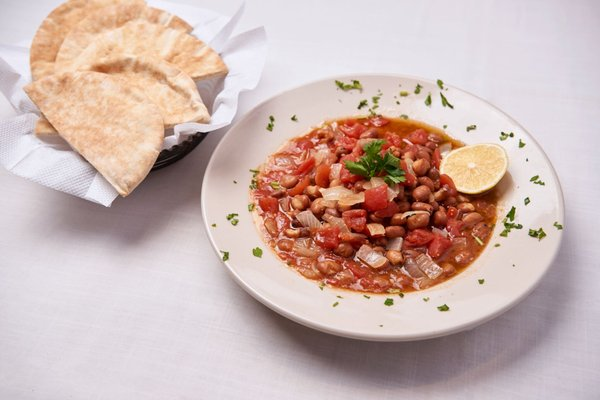soup: (22, 0, 229, 197)
